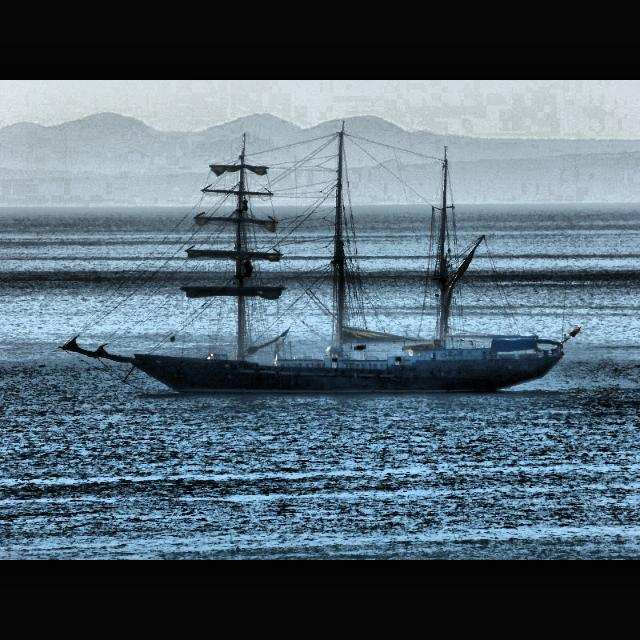sailing_vessel: (57, 130, 565, 396)
